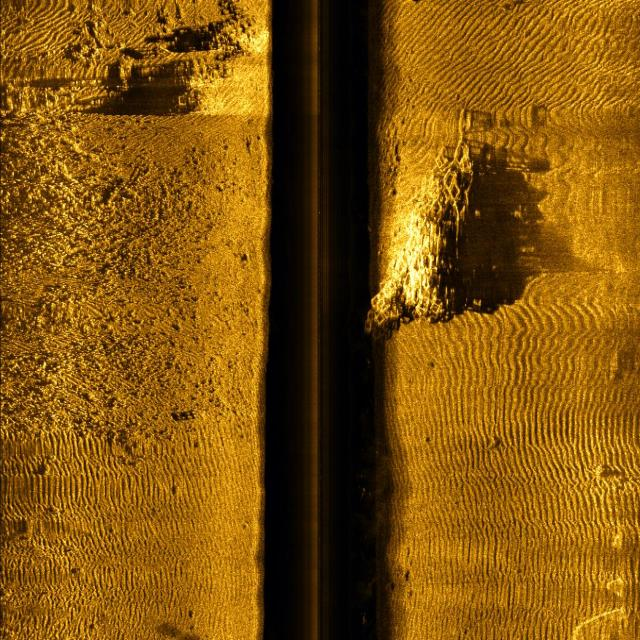artificial reef: (369, 123, 506, 364)
